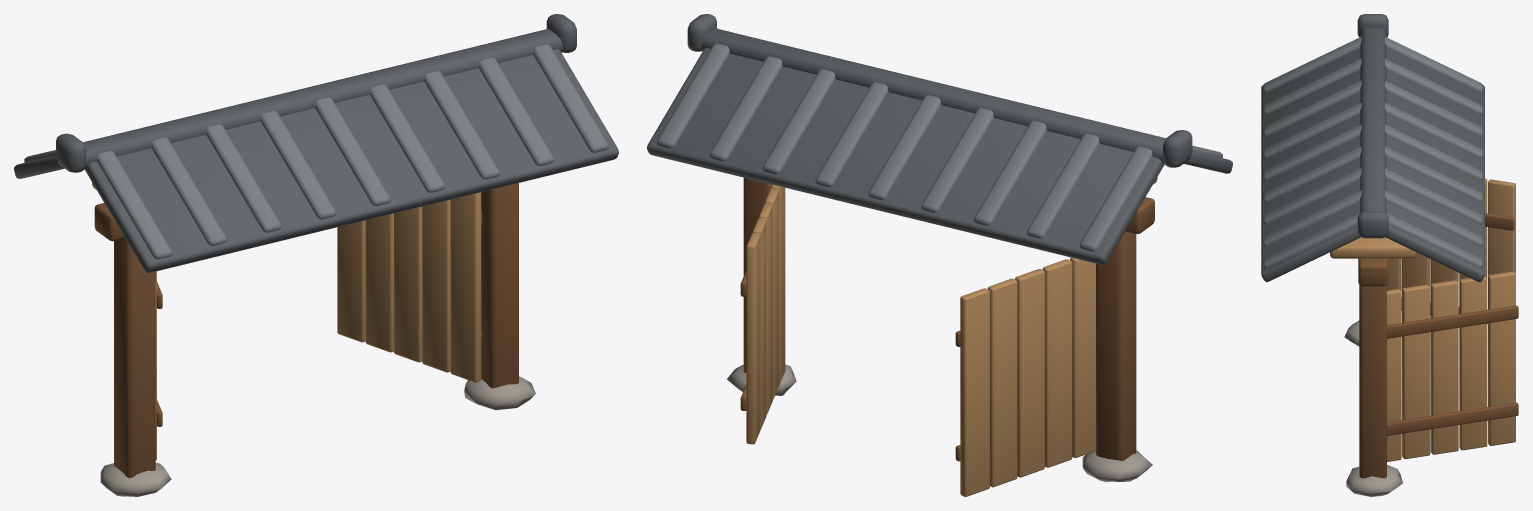
Rendered from gate.glb.
3 renders of one model, left to right at view 1: azimuth 30°, elevation 25°; view 2: azimuth 150°, elevation 25°; view 3: azimuth 270°, elevation 25°, orthographic. The views are drawn at different scales.
Parts seen in each view (by area): view 1: gate; view 2: gate; view 3: gate.
Boxes of the visible parts, x1,y1,x2,y2 form: gate: (14, 14, 618, 496); gate: (647, 14, 1232, 496); gate: (1261, 14, 1518, 496).
Size of the model in its own units: 2.8 by 1.94 by 1.49.
